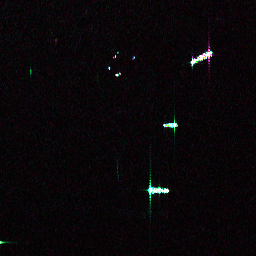ship: (188, 48, 215, 67), (147, 185, 171, 195), (162, 121, 178, 129)
